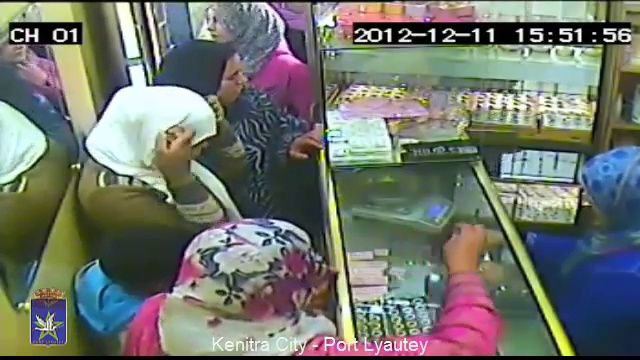face: (211, 55, 248, 105), (192, 2, 236, 41)
